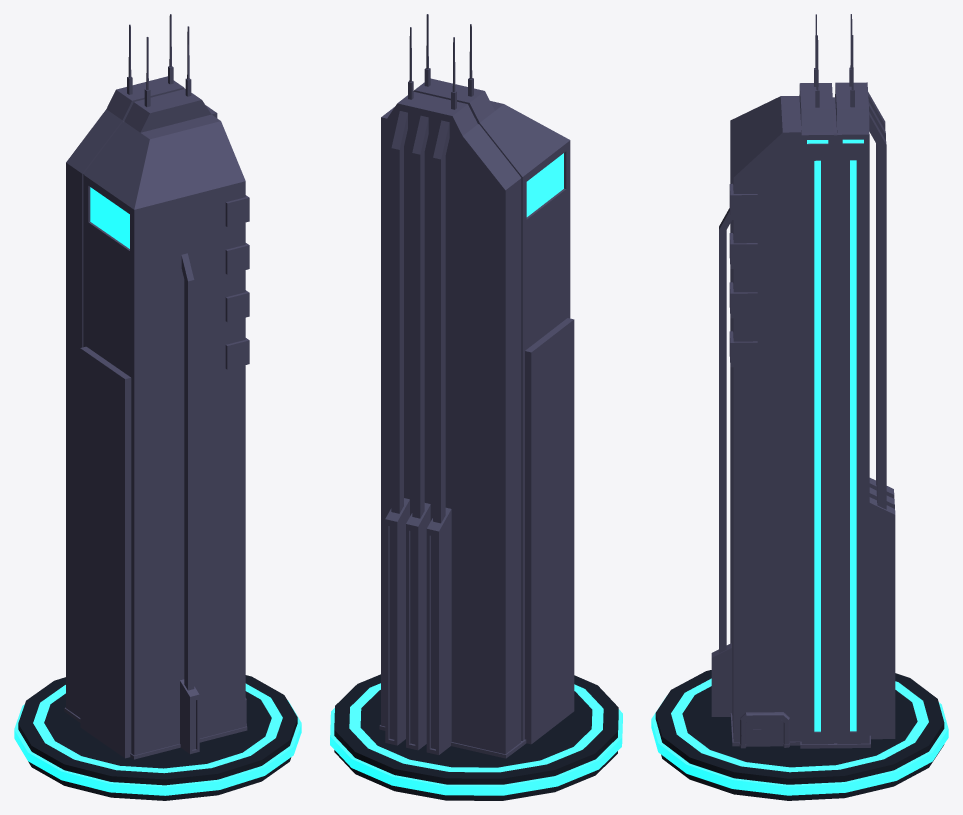
File: House7.fbx
The picture shows the model from 3 angles, left to right: view 1: azimuth 30°, elevation 25°; view 2: azimuth 150°, elevation 25°; view 3: azimuth 270°, elevation 25°; orthographic projection. The views are drawn at different scales.
Parts seen in each view (by area): view 1: House7; view 2: House7; view 3: House7.
Boxes of the visible parts, bbox=[...] form: House7: bbox=[14, 14, 301, 800]; House7: bbox=[330, 14, 622, 800]; House7: bbox=[651, 14, 948, 800].
Bounding box in the file's own units: 1966 × 5370 × 1966.
